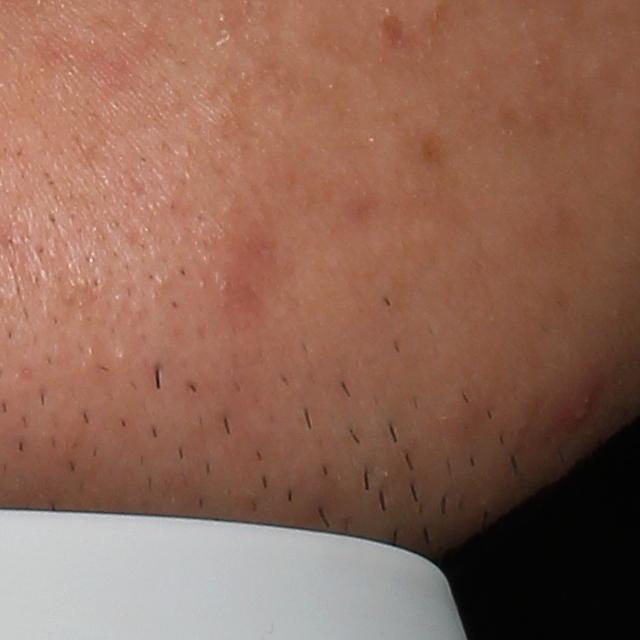pustule: (549, 377, 602, 438)
